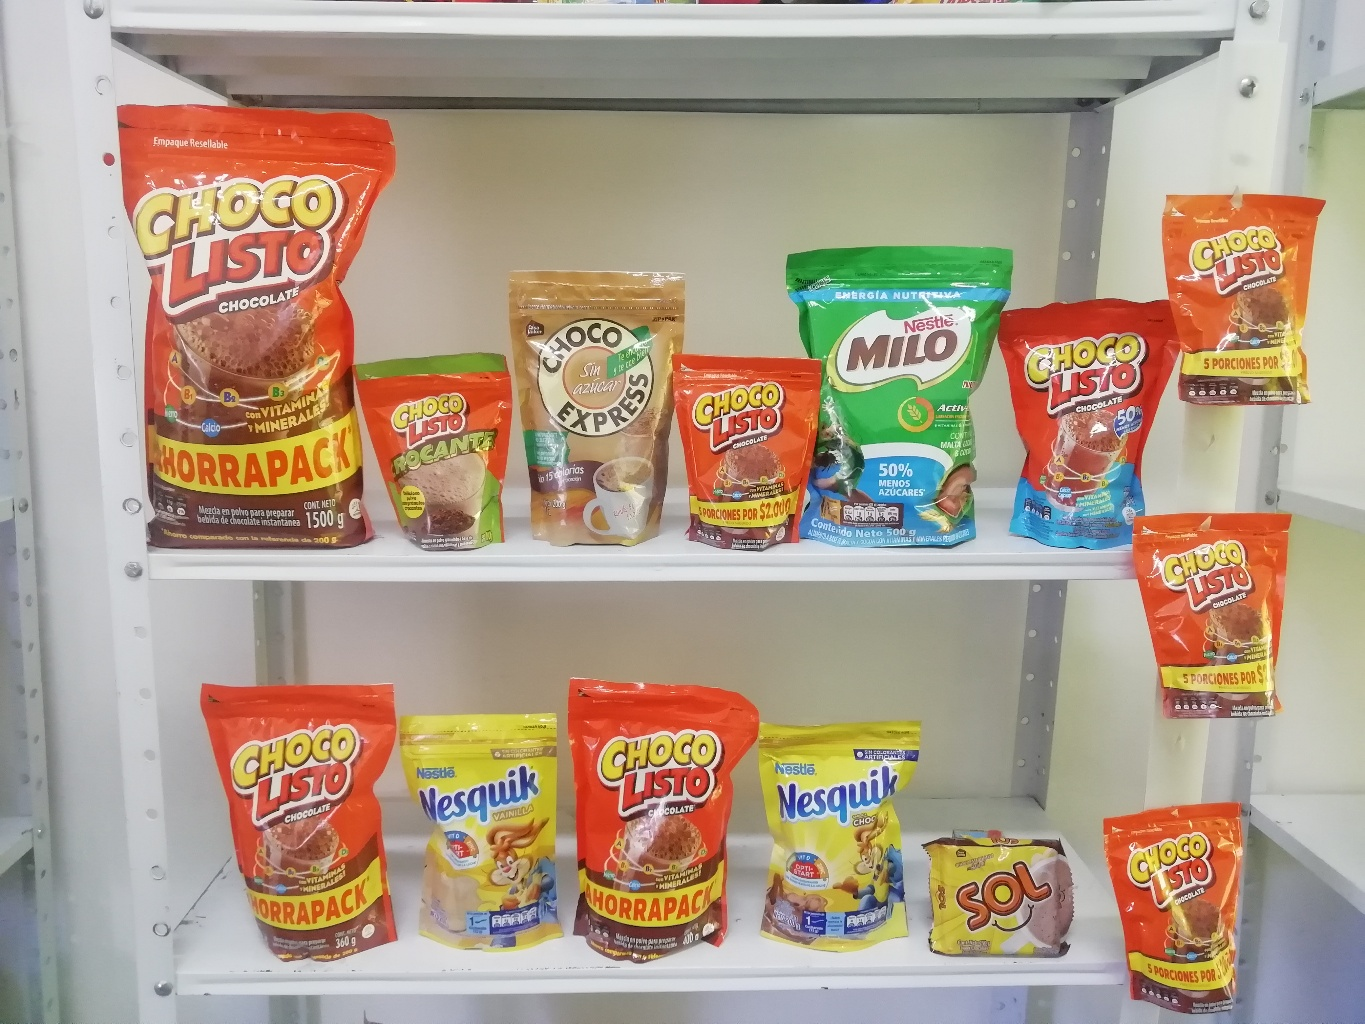COL0170102DYP10000: (352, 351, 516, 550)
COL0170103DYP1,500: (112, 100, 398, 549)
COL0170103DYP10000: (667, 355, 828, 547)
COL0170103DYP36000: (196, 679, 401, 966)
COL0170103DYP40000: (567, 675, 759, 964)
COL0170104DYP20000: (997, 299, 1200, 547)
COL0170205DYP50000: (783, 244, 1011, 545)
COL0170303DYP20000: (756, 717, 923, 950)
COL0170306DYP20000: (398, 708, 565, 953)
